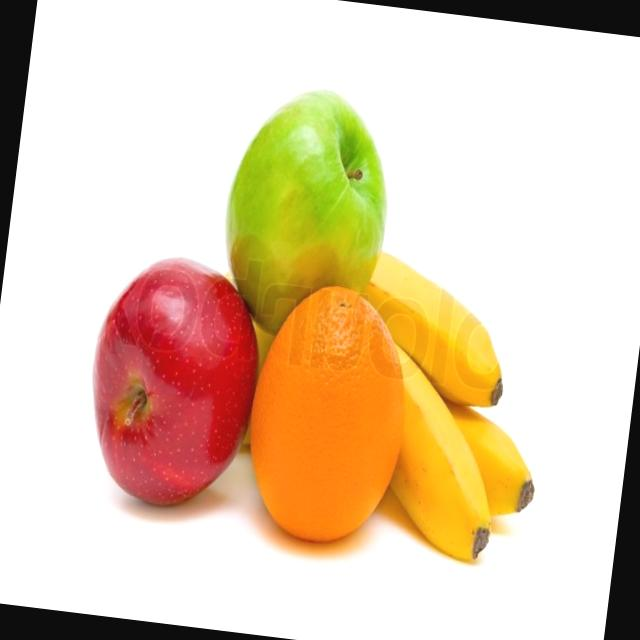apple: (64, 247, 276, 529)
banana: (204, 308, 516, 586)
orange: (225, 278, 435, 562)
